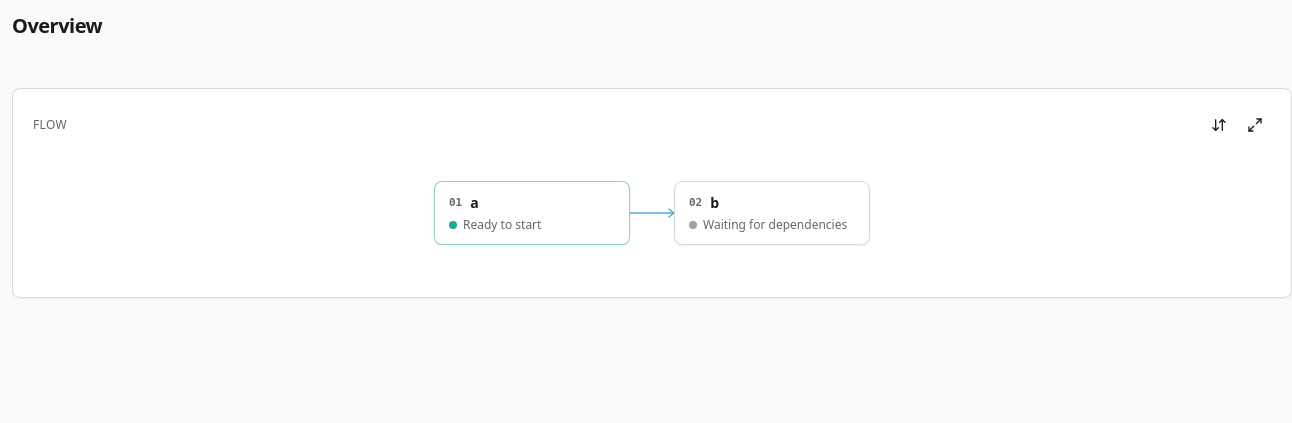
Test: Overview › the_graph_runs_left_to_right_by_default_and_the_button_switches_to_top_to_bottom
Step 1. Click the button named "Lay out stages top to bottom" → point(1219, 125), box [1203,109,1235,141]
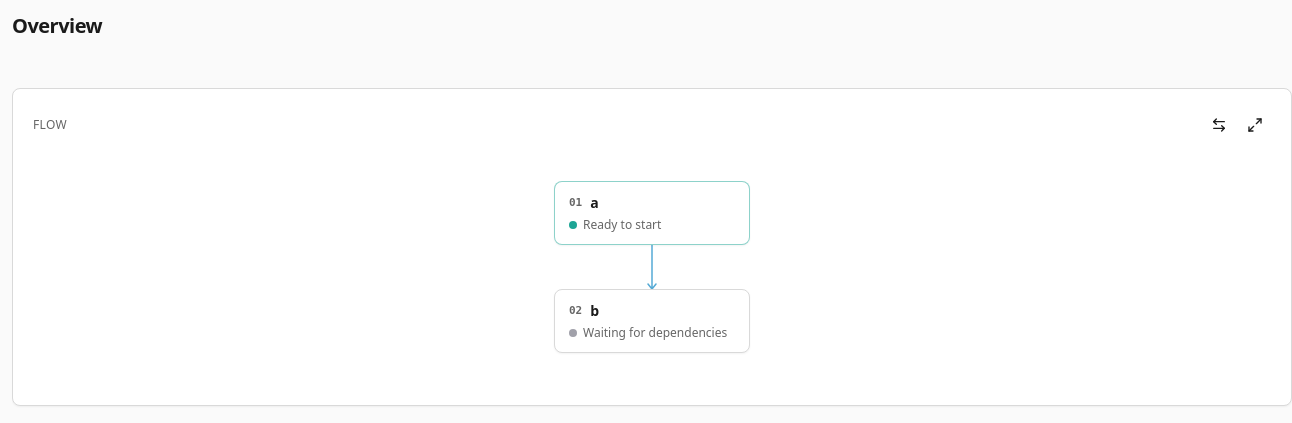
Expected: the button named "Lay out stages left to right" is shown, [1203,109,1235,141]
